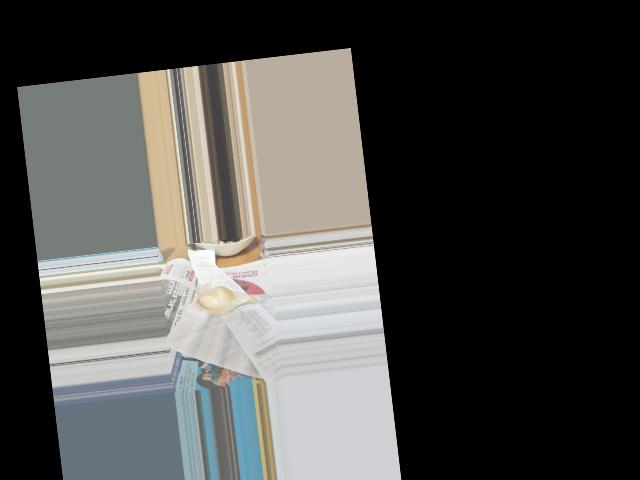onion: (197, 282, 256, 319)
